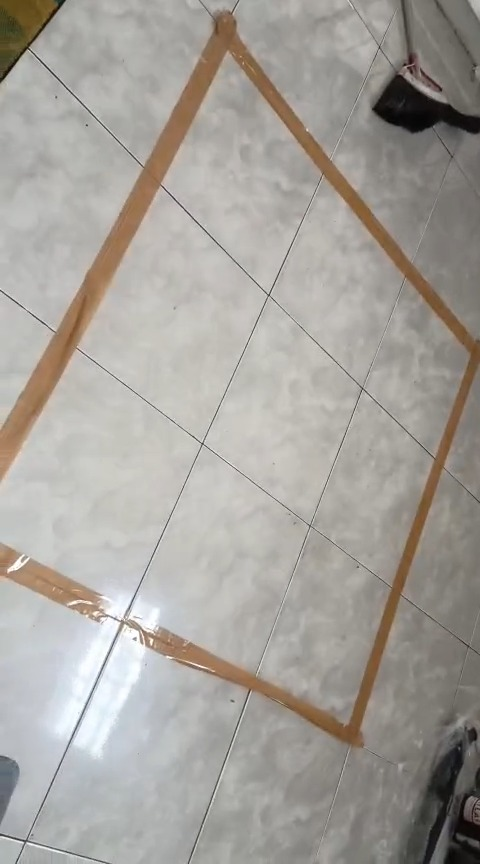floor marking: (2, 12, 479, 745)
